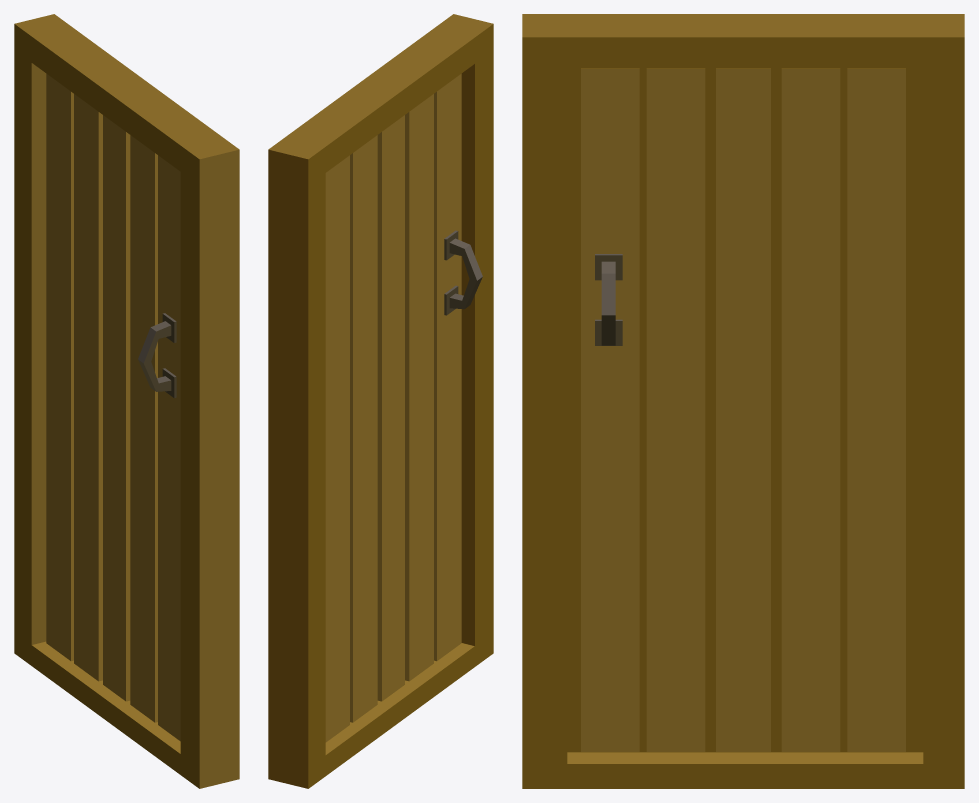
3 renders of one model, left to right at view 1: azimuth 30°, elevation 25°; view 2: azimuth 150°, elevation 25°; view 3: azimuth 270°, elevation 25°, orthographic. The views are drawn at different scales.
Size of the model in its own units: 33 by 240 by 128.
1 material, 1 textured.
